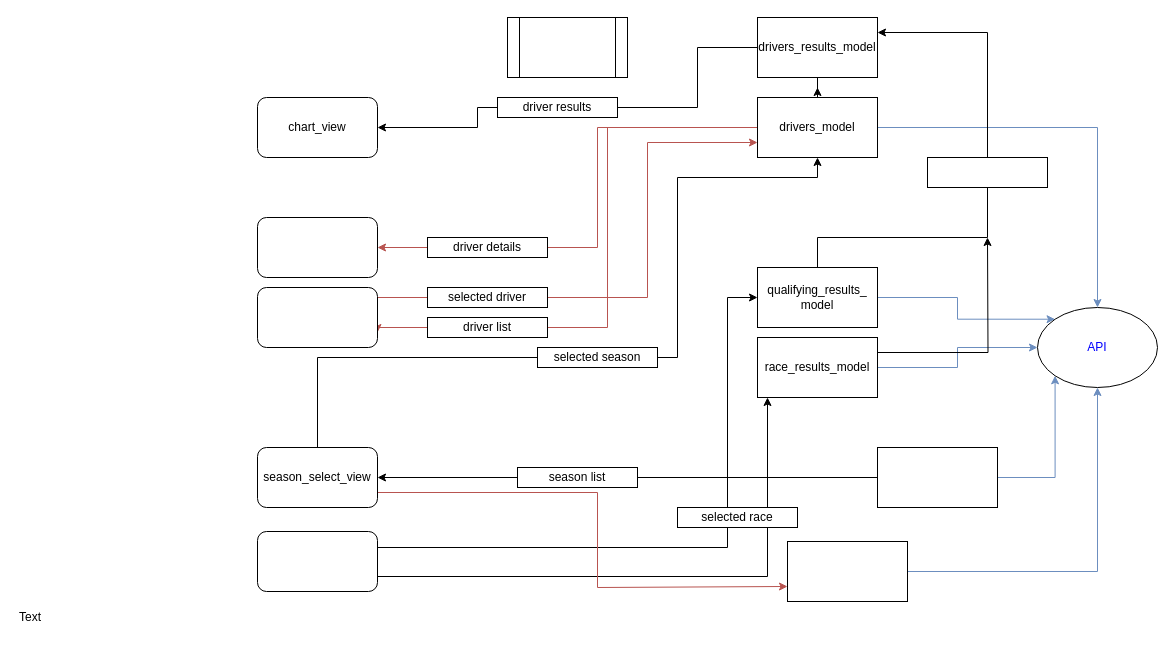
Image size: 1175x645. Some labels were removed from this diagram. The centre of each missing label's shape, as x and y in pixels:
driver_details_view: point 317,247
driver_select_view: point 317,317
Pub Sub: point 567,47
race/quali full results results: point 987,172
race_select_view: point 317,561
seasons_model: point 937,477
seasons_schedule_ model: point 847,571
